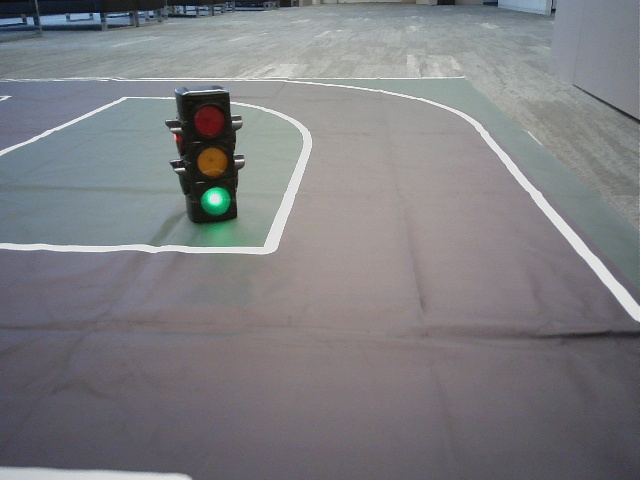green: (184, 96, 235, 219)
